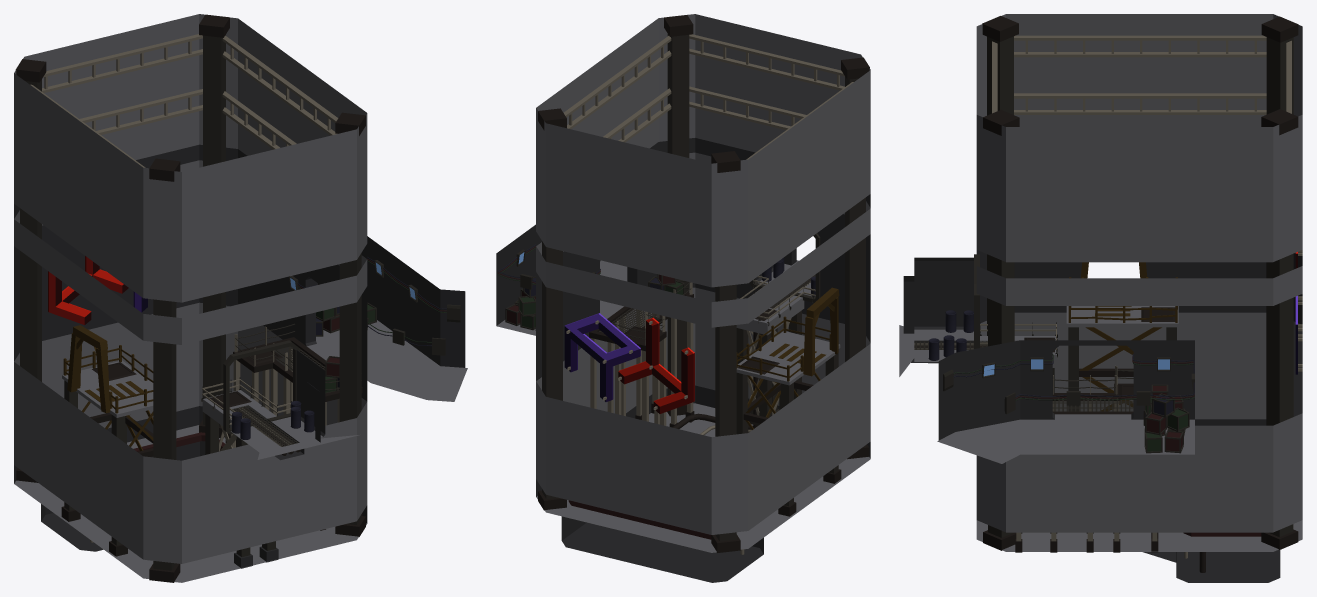
File: Interior.FBX
The picture shows the model from 3 angles, left to right: view 1: azimuth 30°, elevation 25°; view 2: azimuth 150°, elevation 25°; view 3: azimuth 270°, elevation 25°; orthographic projection. The views are drawn at different scales.
Visible parts, largest first — view 1: RocketRoom_Interior_Shell, Storage_Interior_Hall, SciFi_Interior_Platform, Mining_Interior_Platform, Storage_Interior_Platform, Interior_HolocadLogo, SciFi_Interior_PlatformGrates, SciFi_Interior_PlatformRails; view 2: RocketRoom_Interior_Shell, Mining_Interior_Platform, Interior_HolocadLogo, Storage_Interior_Hall, SciFi_Interior_Platform, Storage_Interior_Platform, Storage_Interior_Platform_Grate, SciFi_Interior_PlatformRails, Storage_Interior_Crates2; view 3: RocketRoom_Interior_Shell, Storage_Interior_Hall, SciFi_Interior_Platform, Mining_Interior_Platform, Storage_Interior_Platform, Storage_Interior_Platform_Grate.
Boxes of the visible parts, bbox=[...] form: RocketRoom_Interior_Shell: bbox=[14, 14, 367, 582]; Storage_Interior_Hall: bbox=[289, 236, 467, 401]; SciFi_Interior_Platform: bbox=[90, 340, 359, 568]; Mining_Interior_Platform: bbox=[61, 325, 153, 556]; Storage_Interior_Platform: bbox=[233, 337, 362, 530]; Interior_HolocadLogo: bbox=[48, 256, 147, 324]; SciFi_Interior_PlatformGrates: bbox=[232, 405, 298, 446]; SciFi_Interior_PlatformRails: bbox=[201, 377, 291, 427]; RocketRoom_Interior_Shell: bbox=[536, 14, 870, 582]; Mining_Interior_Platform: bbox=[736, 287, 841, 516]; Interior_HolocadLogo: bbox=[564, 313, 694, 413]; Storage_Interior_Hall: bbox=[496, 224, 637, 335]; SciFi_Interior_Platform: bbox=[672, 233, 820, 554]; Storage_Interior_Platform: bbox=[589, 292, 694, 427]; Storage_Interior_Platform_Grate: bbox=[599, 308, 656, 333]; SciFi_Interior_PlatformRails: bbox=[740, 276, 815, 326]; Storage_Interior_Crates2: bbox=[648, 274, 684, 295]; RocketRoom_Interior_Shell: bbox=[976, 14, 1302, 582]; Storage_Interior_Hall: bbox=[937, 340, 1194, 463]; SciFi_Interior_Platform: bbox=[899, 254, 1205, 572]; Mining_Interior_Platform: bbox=[1066, 262, 1178, 411]; Storage_Interior_Platform: bbox=[1015, 383, 1158, 552]; Storage_Interior_Platform_Grate: bbox=[1052, 397, 1133, 411].
Size of the model in its own units: 33.2 by 44.71 by 33.99.
